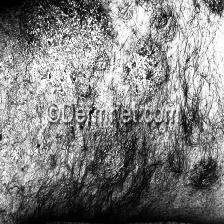Non-Cancerous Skin Condition: (80, 0, 224, 100), (63, 148, 224, 224), (0, 0, 67, 91), (0, 95, 39, 218)
